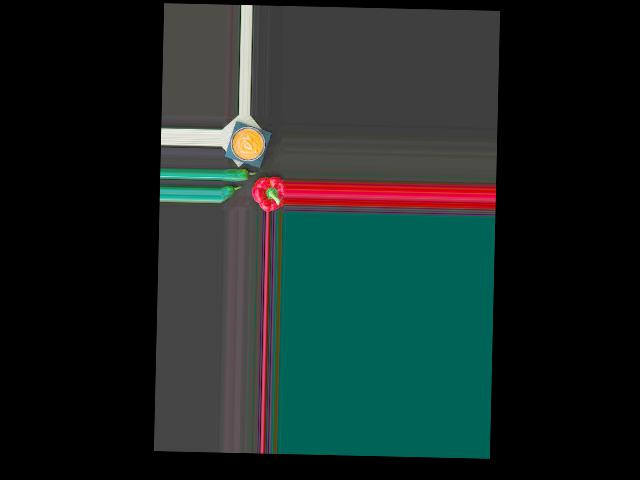bell_pepper: (252, 176, 284, 210)
